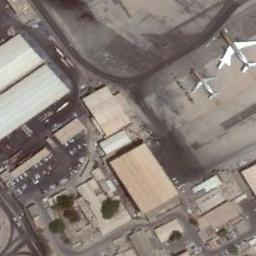Airplane: (212, 28, 254, 76), (182, 68, 224, 102)
